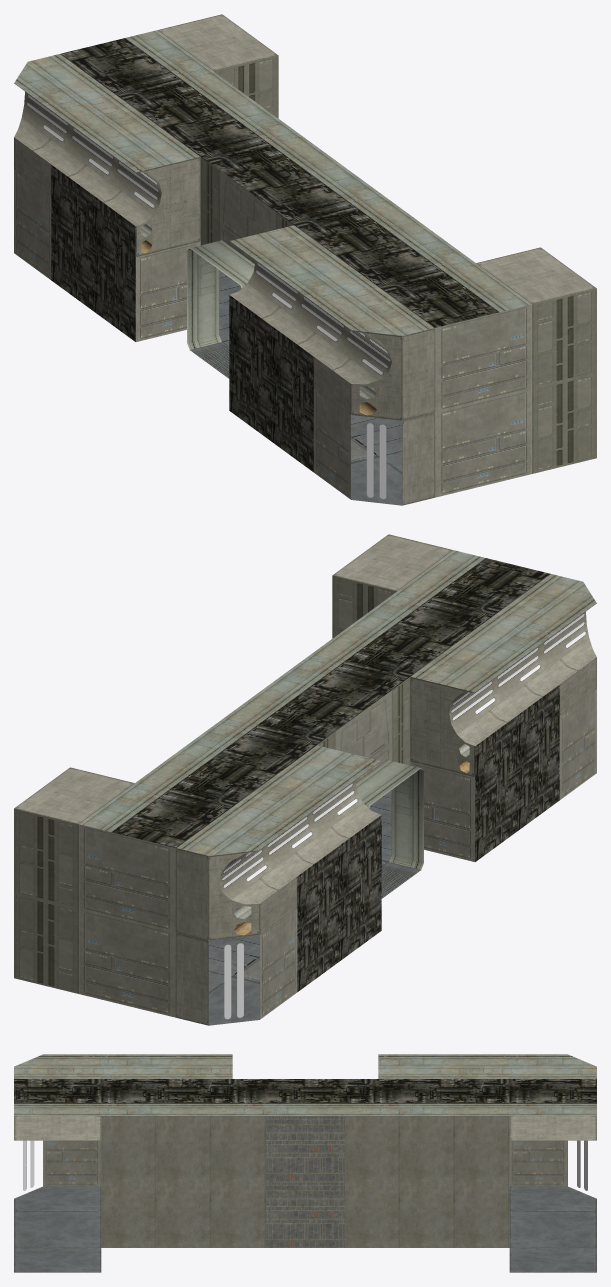
Rendered from thm_tato_lucky_despot_r5_foyer02_mesh_r5.fbx.
The picture shows the model from 3 angles, top to bottom: view 1: azimuth 30°, elevation 25°; view 2: azimuth 150°, elevation 25°; view 3: azimuth 270°, elevation 25°; orthographic projection. The views are drawn at different scales.
Visible parts, largest first — view 1: mesh_node; view 2: mesh_node; view 3: mesh_node.
Part boxes in pixels (x1,y1,x2,y2): mesh_node: (14, 14, 596, 505); mesh_node: (14, 534, 596, 1025); mesh_node: (14, 1054, 596, 1272).
Bounding box in the file's own units: 7 × 5 × 20.
